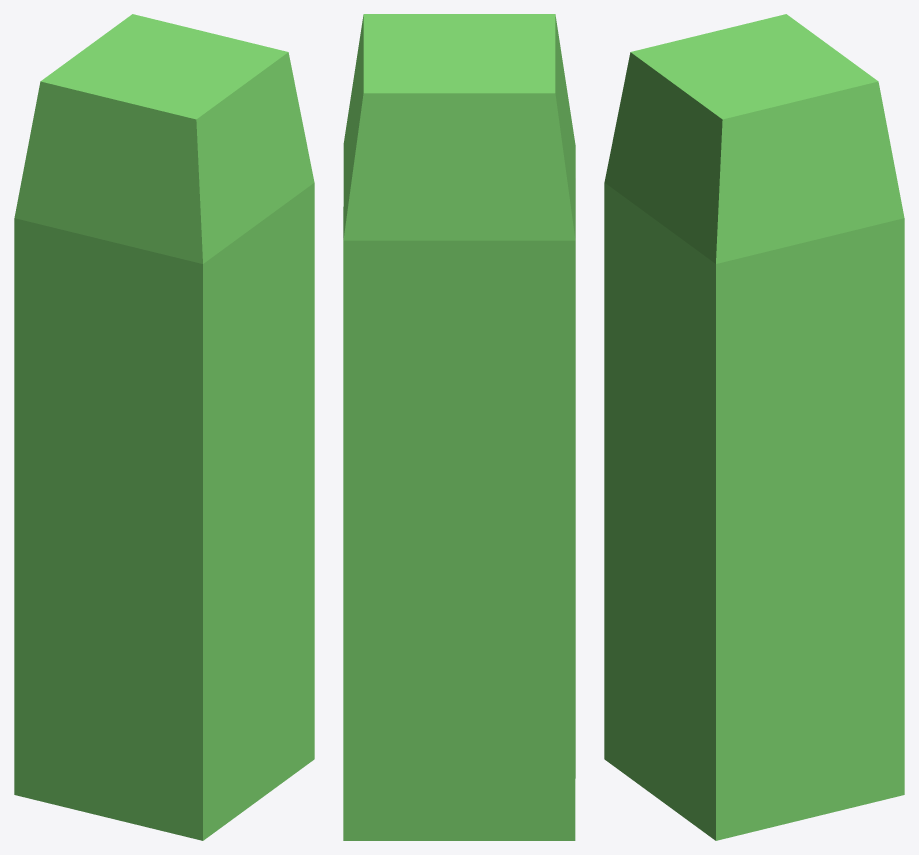
File: sm_Collider22.fbx
3 renders of one model, left to right at view 1: azimuth 30°, elevation 25°; view 2: azimuth 150°, elevation 25°; view 3: azimuth 270°, elevation 25°, orthographic. The views are drawn at different scales.
Visible parts, largest first — view 1: sm_Collider.026; view 2: sm_Collider.026; view 3: sm_Collider.026.
Part boxes in pixels (x1,y1,x2,y2): sm_Collider.026: (14, 14, 314, 840); sm_Collider.026: (343, 14, 575, 840); sm_Collider.026: (604, 14, 904, 840).
Size of the model in its own units: 1159 by 3010 by 1152.
